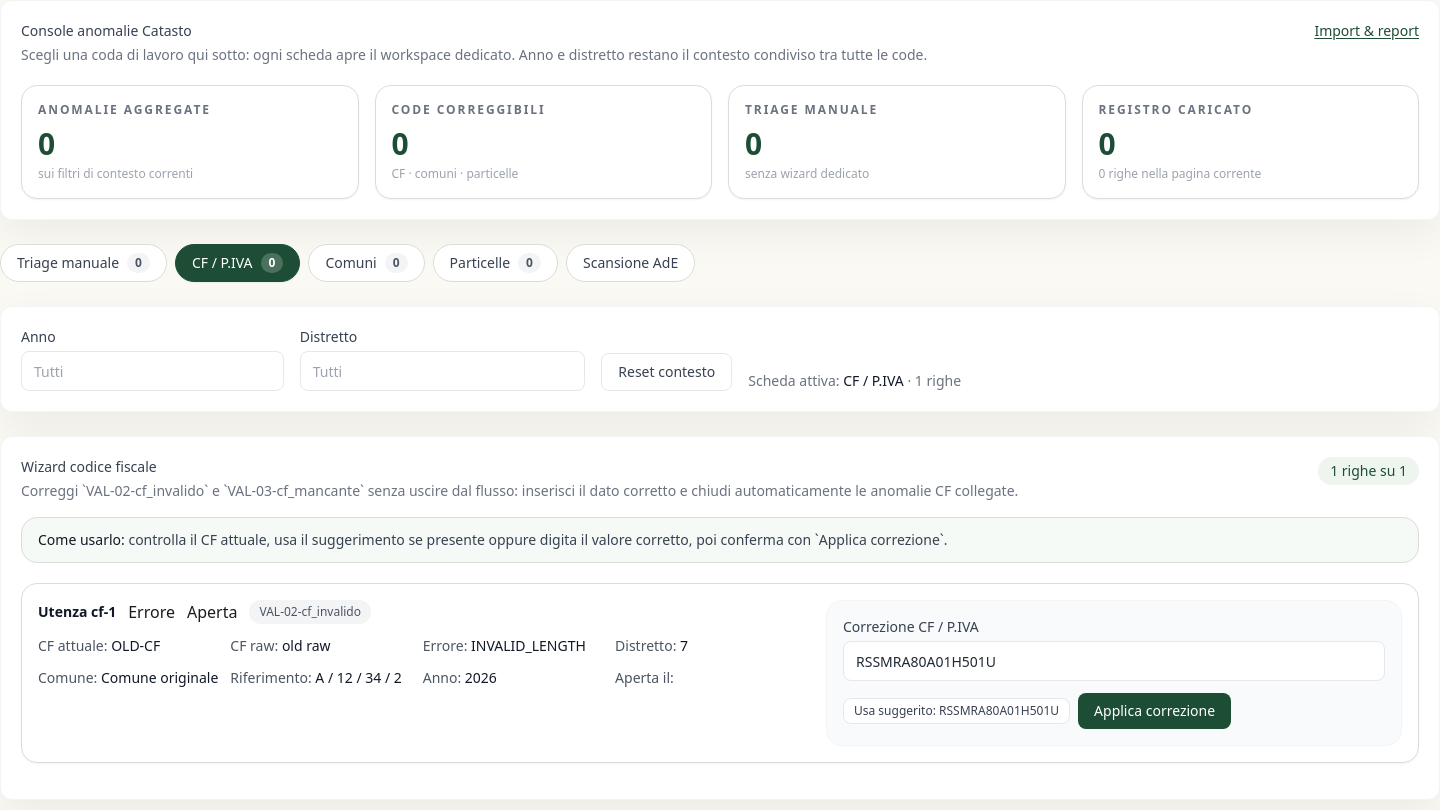
Test: R17 original Catasto CF wizard public transitions › rejects blank draft  before mutation or refresh
Expected: the text "Utenza cf-1" is shown, x1=38 y1=602 x2=116 y2=622
Expected: the button "Reset contesto" is enabled, x1=601 y1=353 x2=732 y2=391
Step 1. Clear the field labelled "Correzione CF / P.IVA" → (1114, 661), box x1=843 y1=641 x2=1385 y2=681
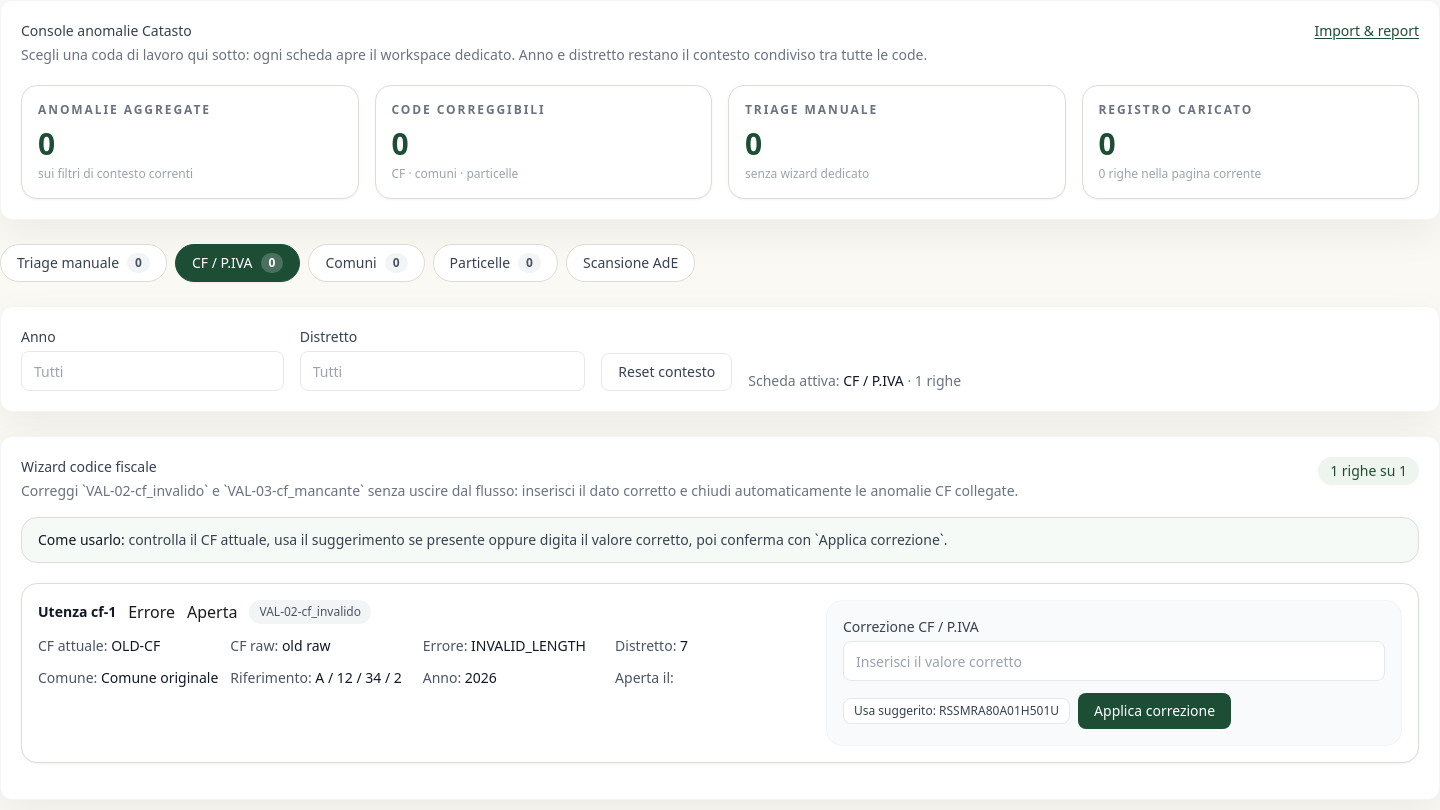
Step 2. Click the button "Applica correzione" → click(1155, 711), box x1=1078 y1=693 x2=1231 y2=729
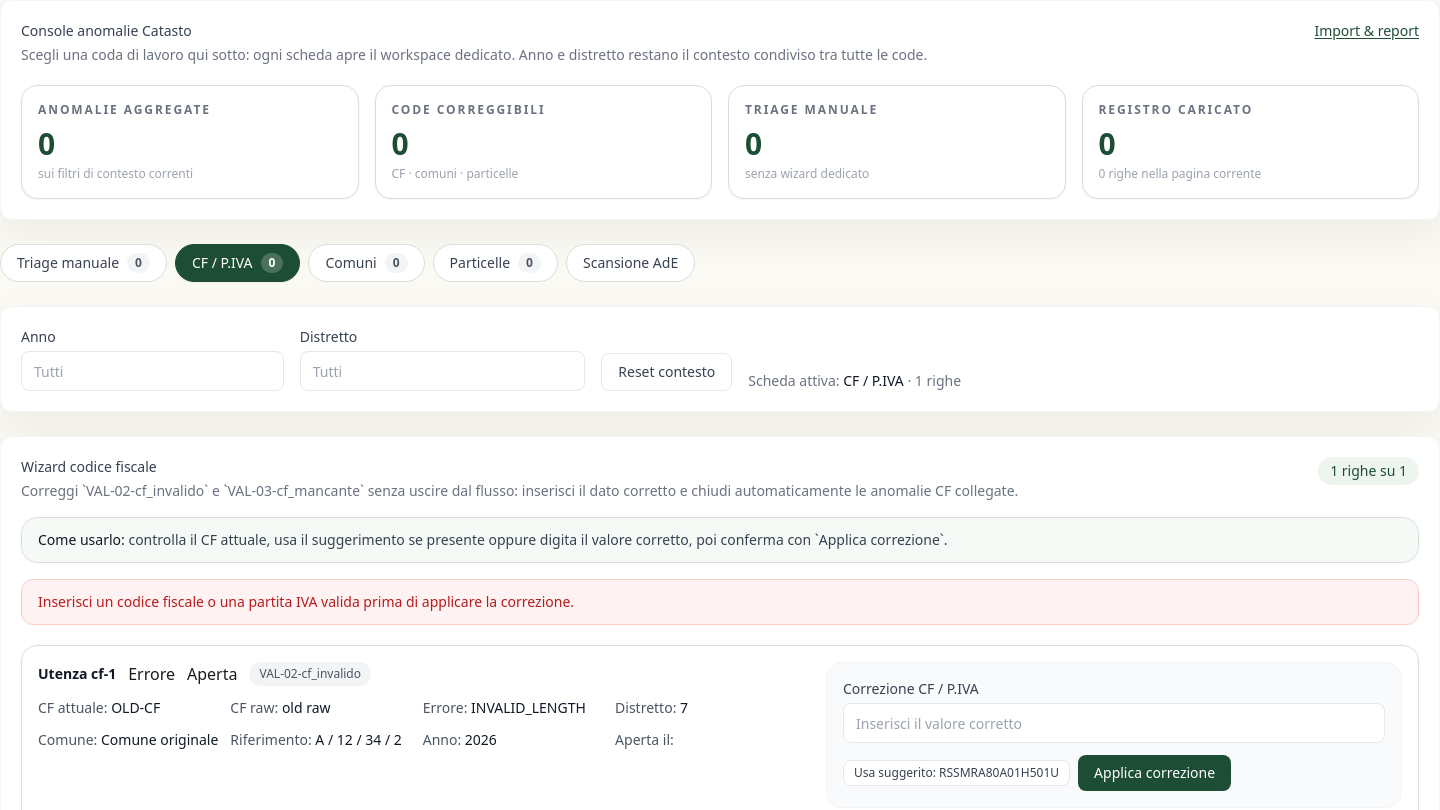
Expected: the button "Applica correzione" is enabled, x1=1078 y1=755 x2=1231 y2=791
Expected: the text "Inserisci un codice fiscale o una partita IVA valida prima di applicare la correzione." is shown, x1=38 y1=592 x2=574 y2=611
